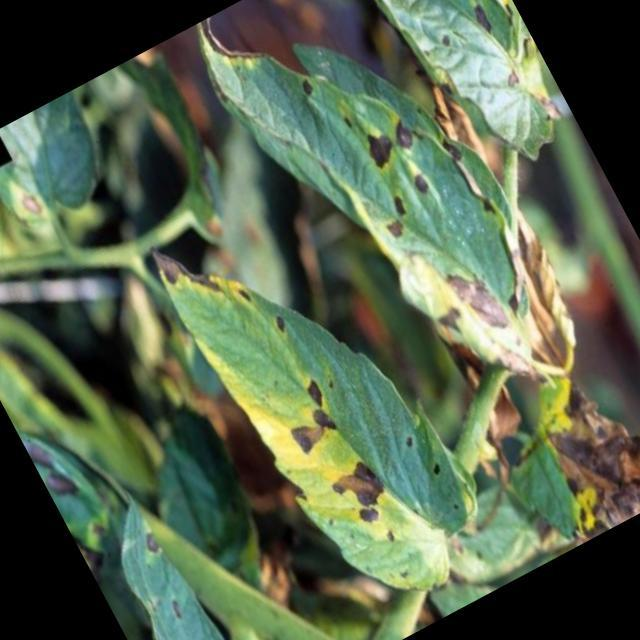Tomato Early blight leaf: (195, 0, 570, 437), (142, 192, 503, 630), (344, 0, 575, 189), (72, 483, 265, 640)
